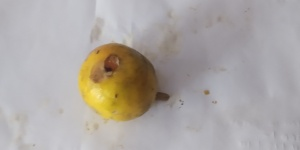BAD: (75, 39, 156, 123)
